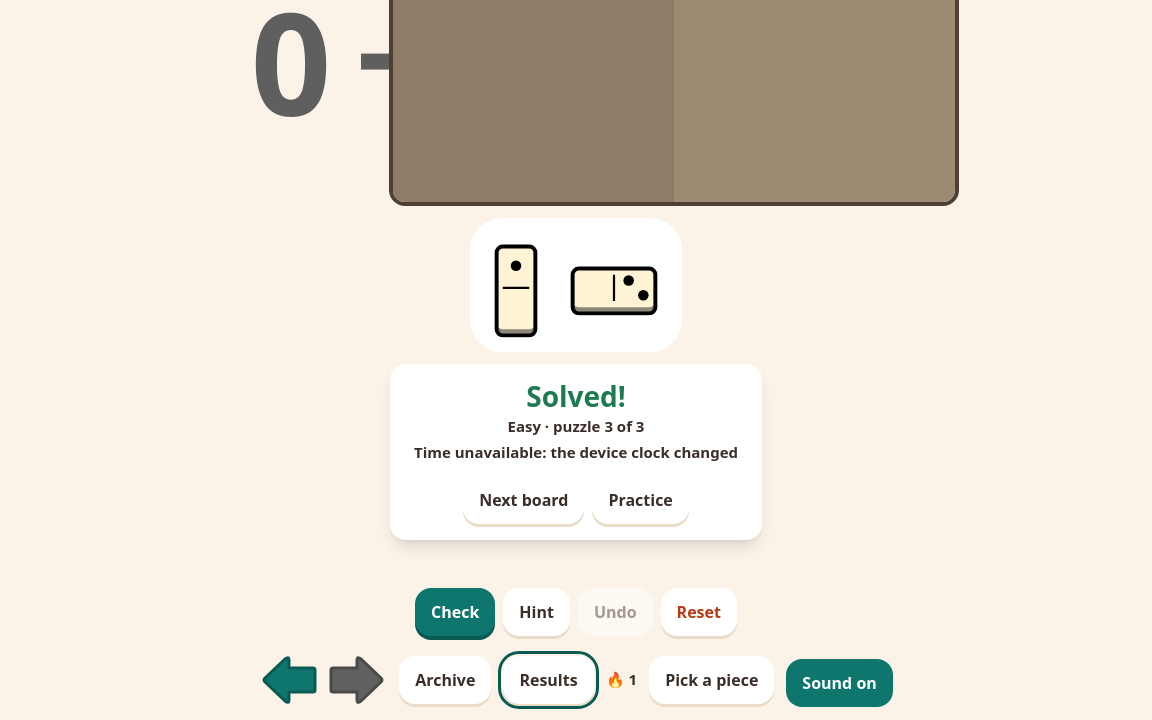
the results screen (rule 6) › says every board's state in words, and each size's line
(page scrolled)
Check: the button "Archive" is shown, box [399,656,491,704]
Click the button "Results": (549, 680) [503,656,594,704]
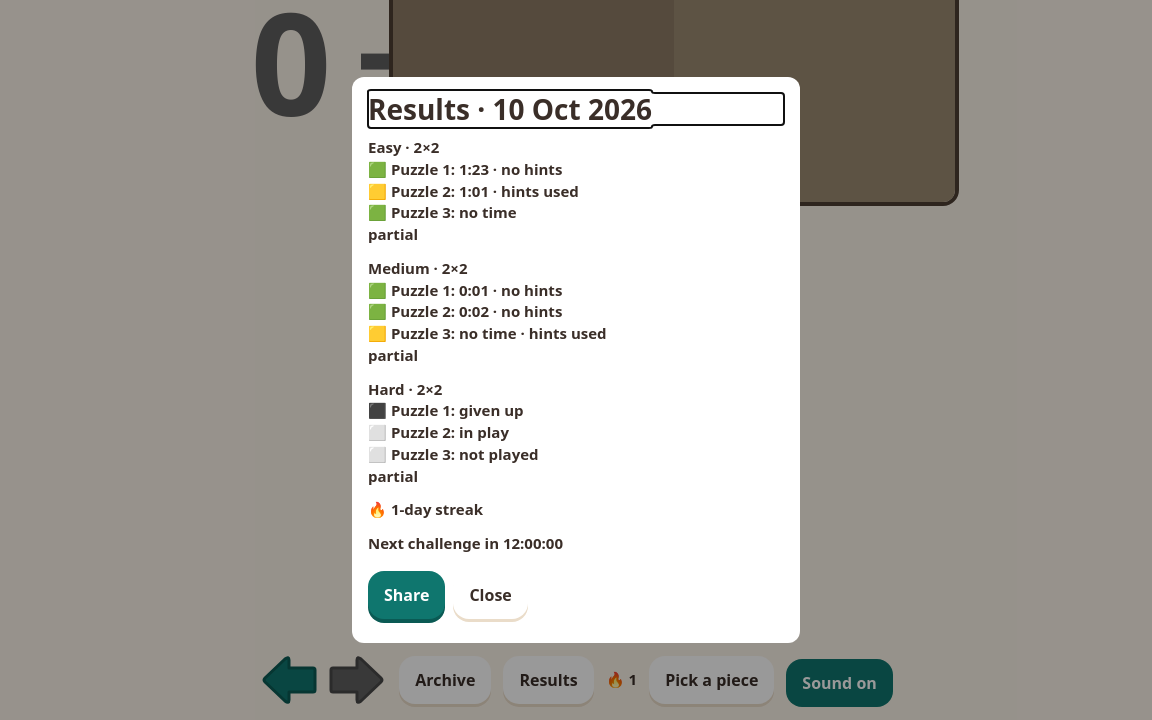
Check: the dialog is shown
Check: the heading "Results · 10 Oct 2026" is shown, box [368,90,652,128]
Check: the text "🟩" in the row of "1:23 · no hints" is shown, box [368,159,387,179]
